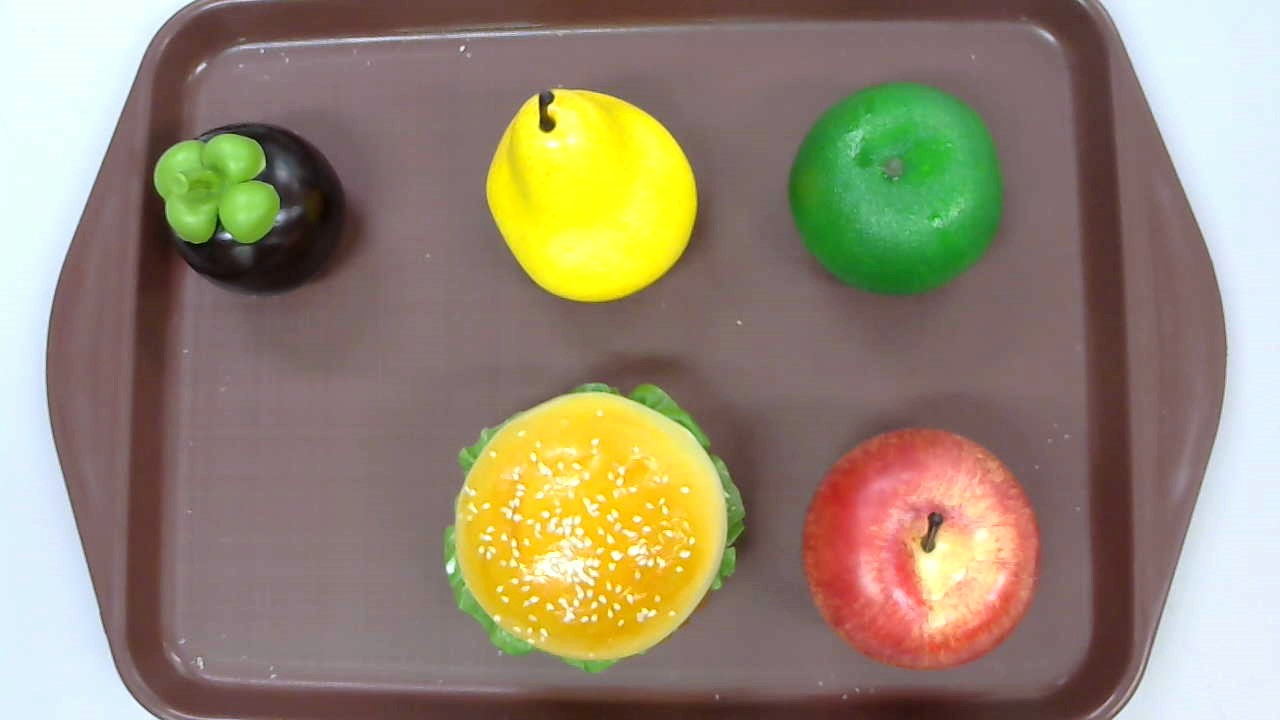green orange: (789, 82, 1004, 297)
hamburger: (443, 382, 747, 672)
mangosteen: (153, 122, 347, 297)
red apple: (801, 425, 1043, 672)
yellow pear: (486, 88, 699, 304)
